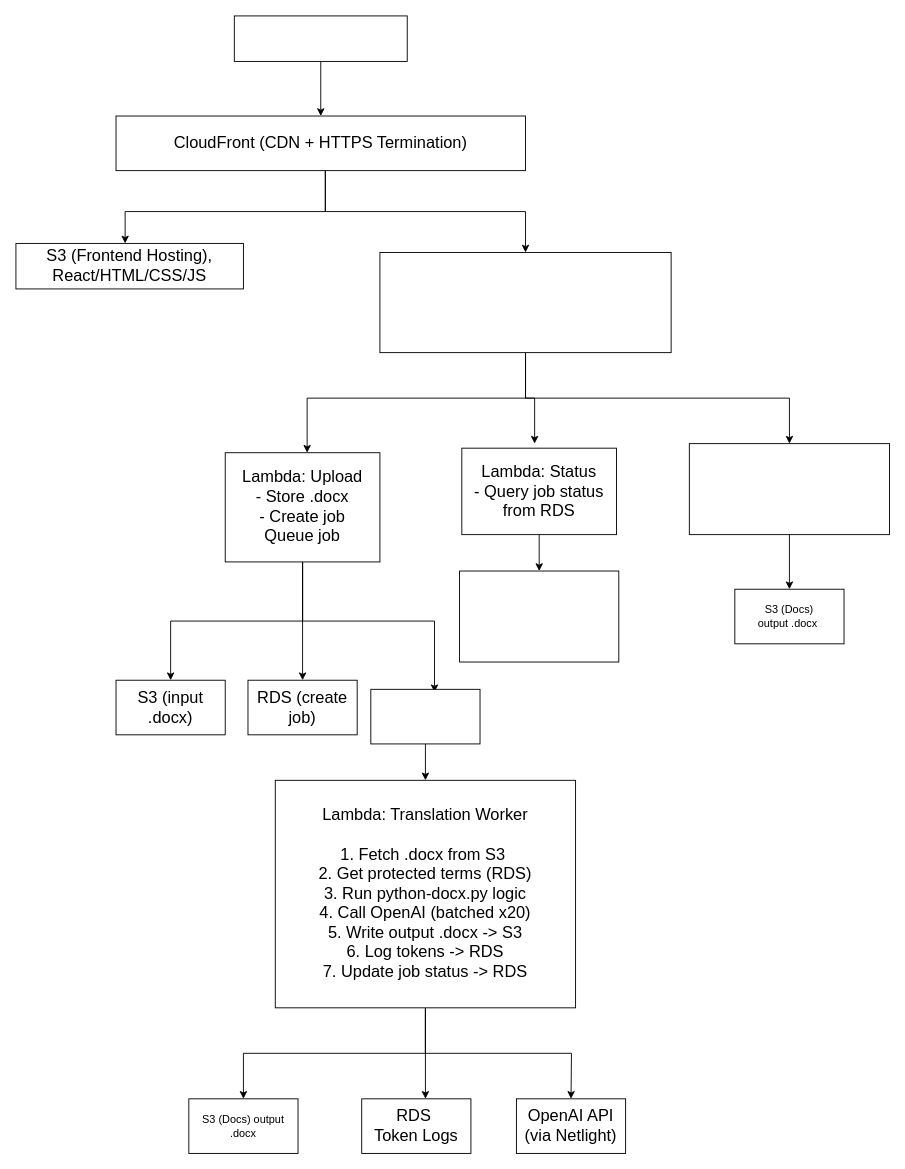
The diagram is 905 pixels wide and 1169 high, and some of its shapes have lost their labels. Here are the shapes that lost their labels. From the top down, the centre of each, then its label:
At point 320,38: "User Browser".
At point 525,302: "API Gateway (REST API) POST /upload GET /status/{jobId} GET /download/{jobId}".
At point 789,489: "Lambda: Download - Generate S3 pre-signed URL".
At point 539,616: "RDS - Jobs Table - Token logs - Terms glossary".
At point 425,716: "SQS Queue".
